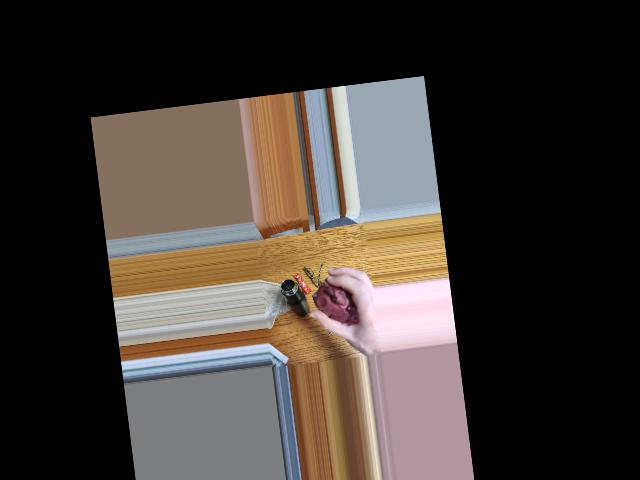onion: (316, 275, 359, 327)
